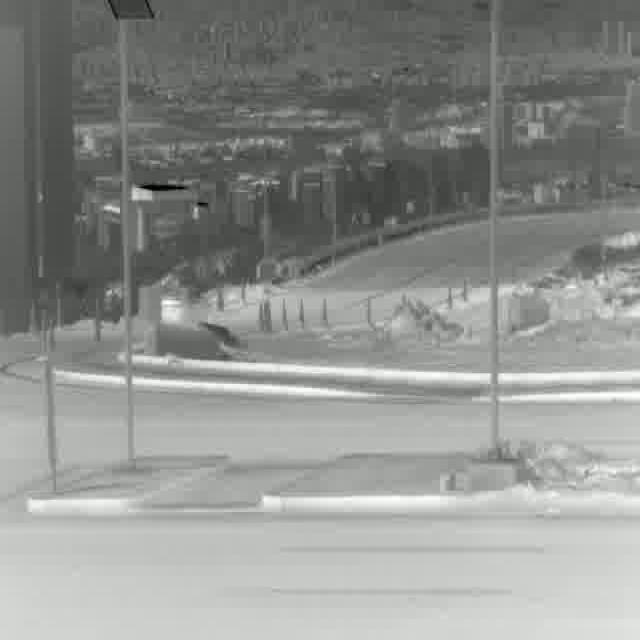Car: (159, 284, 210, 331)
